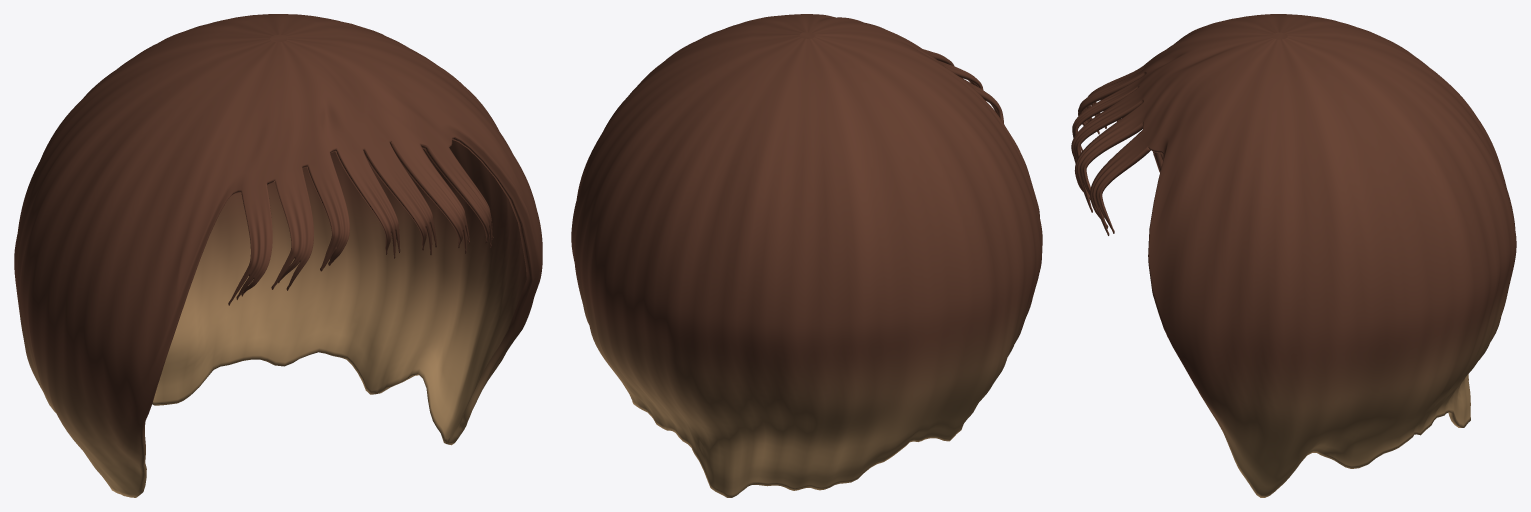
Rendered from side-sweep-pashmina-ombre.glb.
3 views of the same model, side by side, from view 1: azimuth 30°, elevation 25°; view 2: azimuth 150°, elevation 25°; view 3: azimuth 270°, elevation 25° (orthographic). The views are drawn at different scales.
Parts seen in each view (by area): view 1: Wispy bangs / continuous crown; view 2: Wispy bangs / continuous crown; view 3: Wispy bangs / continuous crown.
Part boxes in pixels (left/top/right/bottom): Wispy bangs / continuous crown: left=14, top=14, right=542, bottom=497; Wispy bangs / continuous crown: left=571, top=14, right=1042, bottom=497; Wispy bangs / continuous crown: left=1071, top=14, right=1516, bottom=497.
Size of the model in its own units: 0.8384 by 0.7657 by 0.7885.
